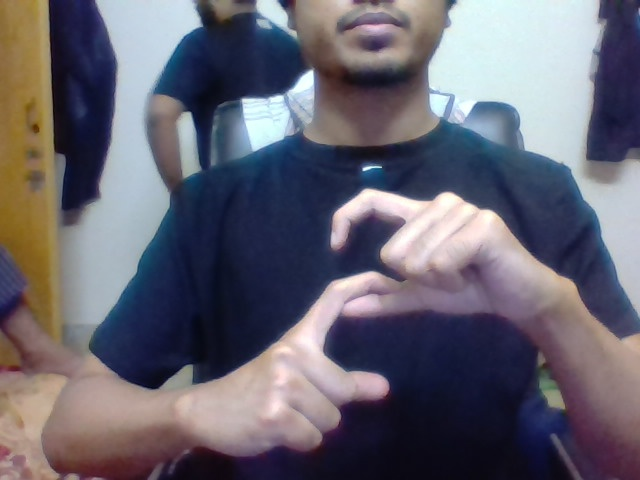S: (316, 186, 408, 403)
